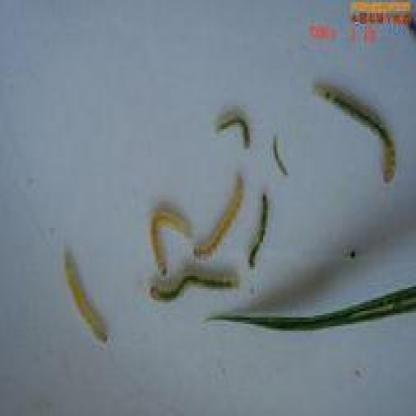leaf-folder: (310, 64, 398, 201), (48, 242, 119, 344), (190, 173, 250, 261), (143, 192, 196, 274), (139, 266, 242, 307), (244, 188, 275, 272), (220, 104, 254, 158), (271, 122, 292, 183)
